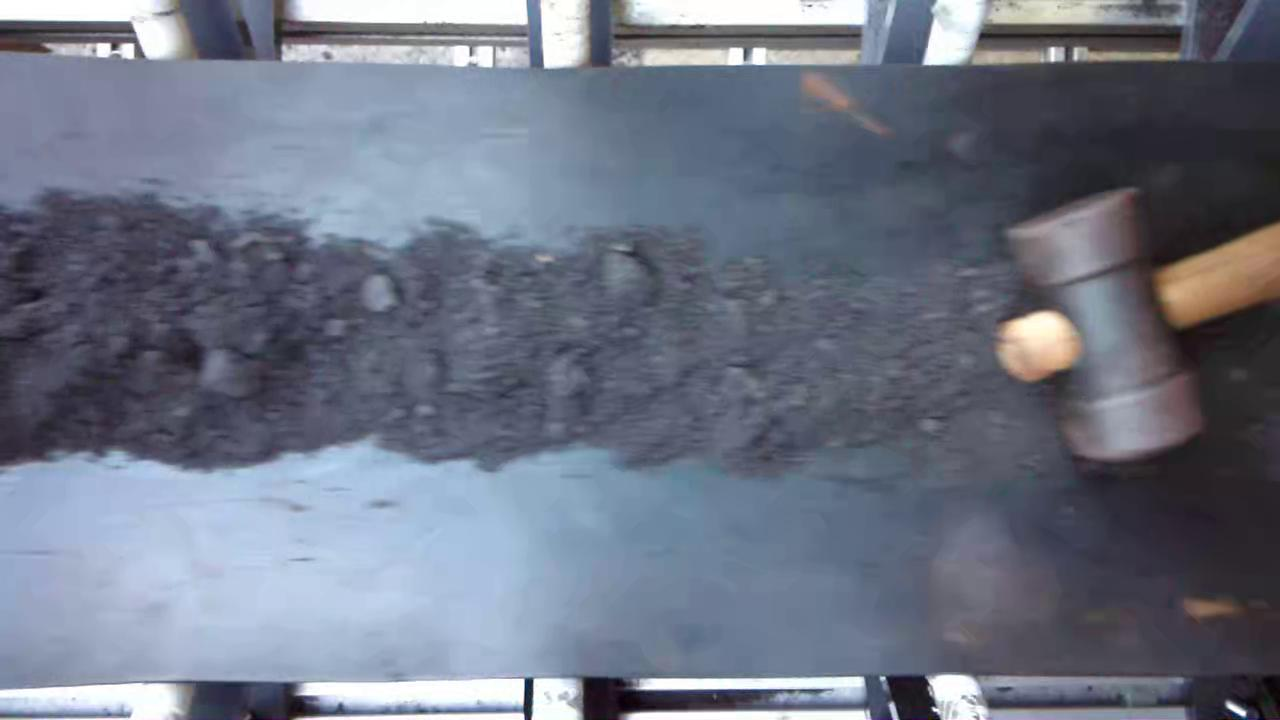conveyor: (5, 70, 1280, 667)
